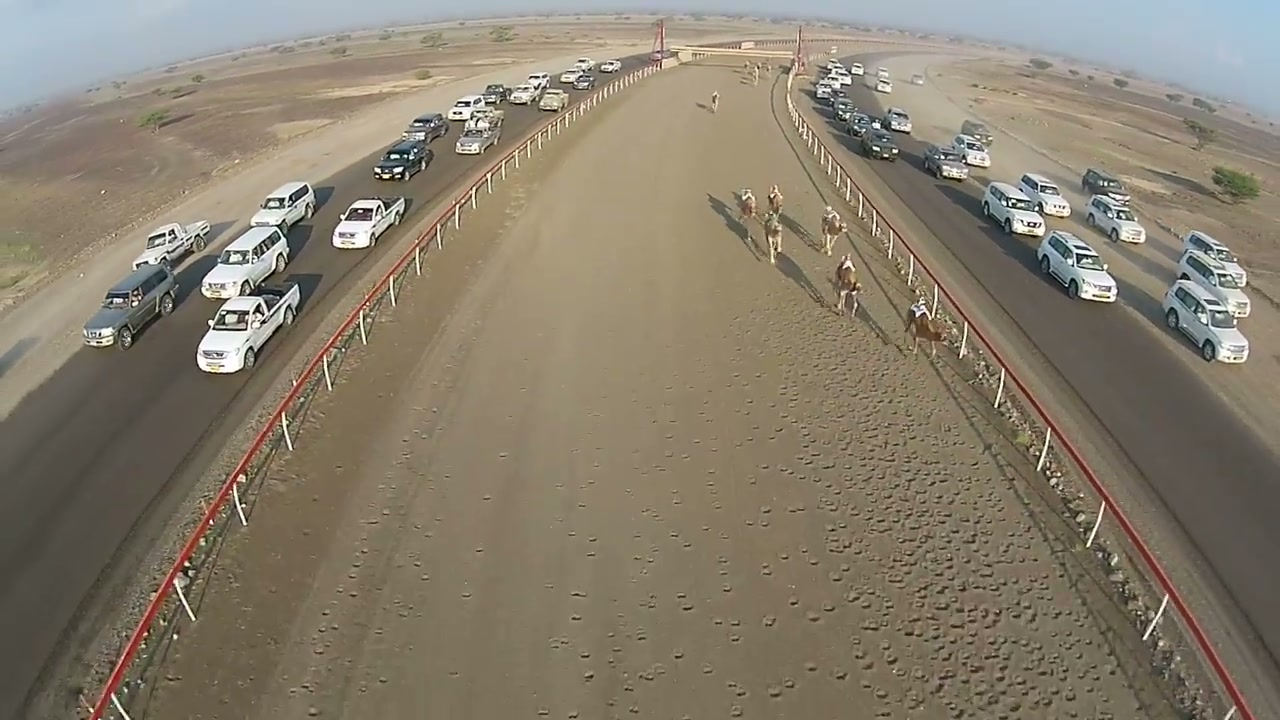animal_footprint: (655, 335, 1135, 719)
